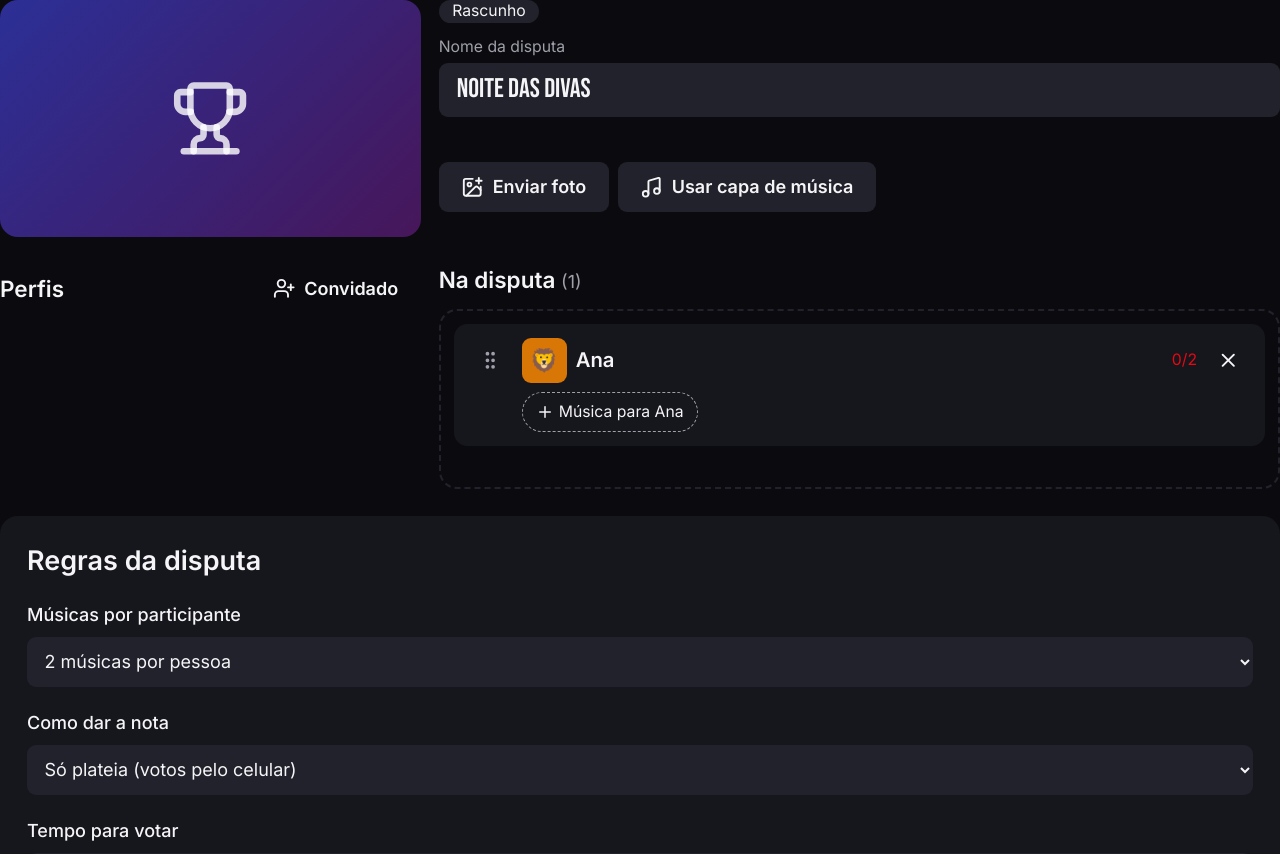
Test case: competitions › draft › chooses a song from the library for a participant
Click the button "Música para Ana" at [610, 412], box [522,392,698,432]
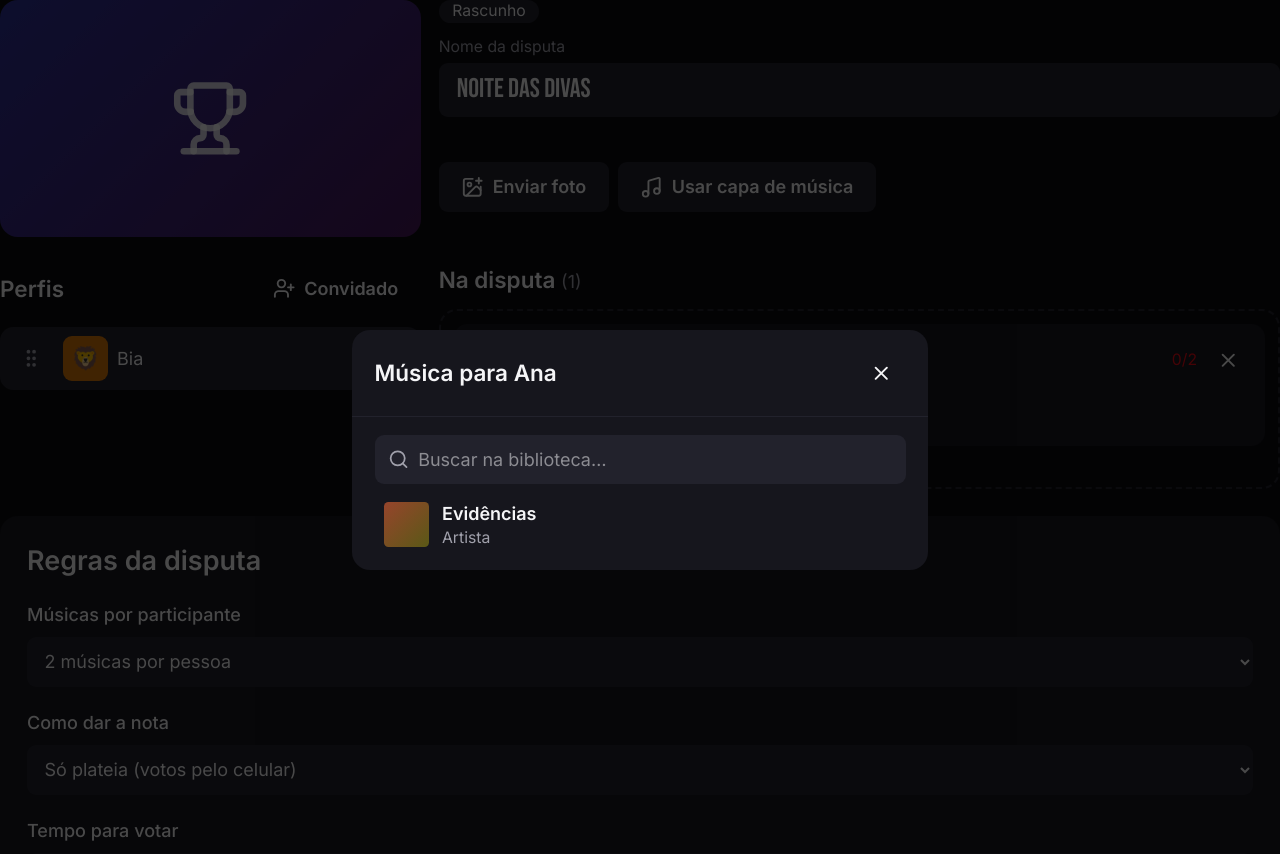
Click the button "Evidências Artista" at [406, 525], box [374,498,906,552]
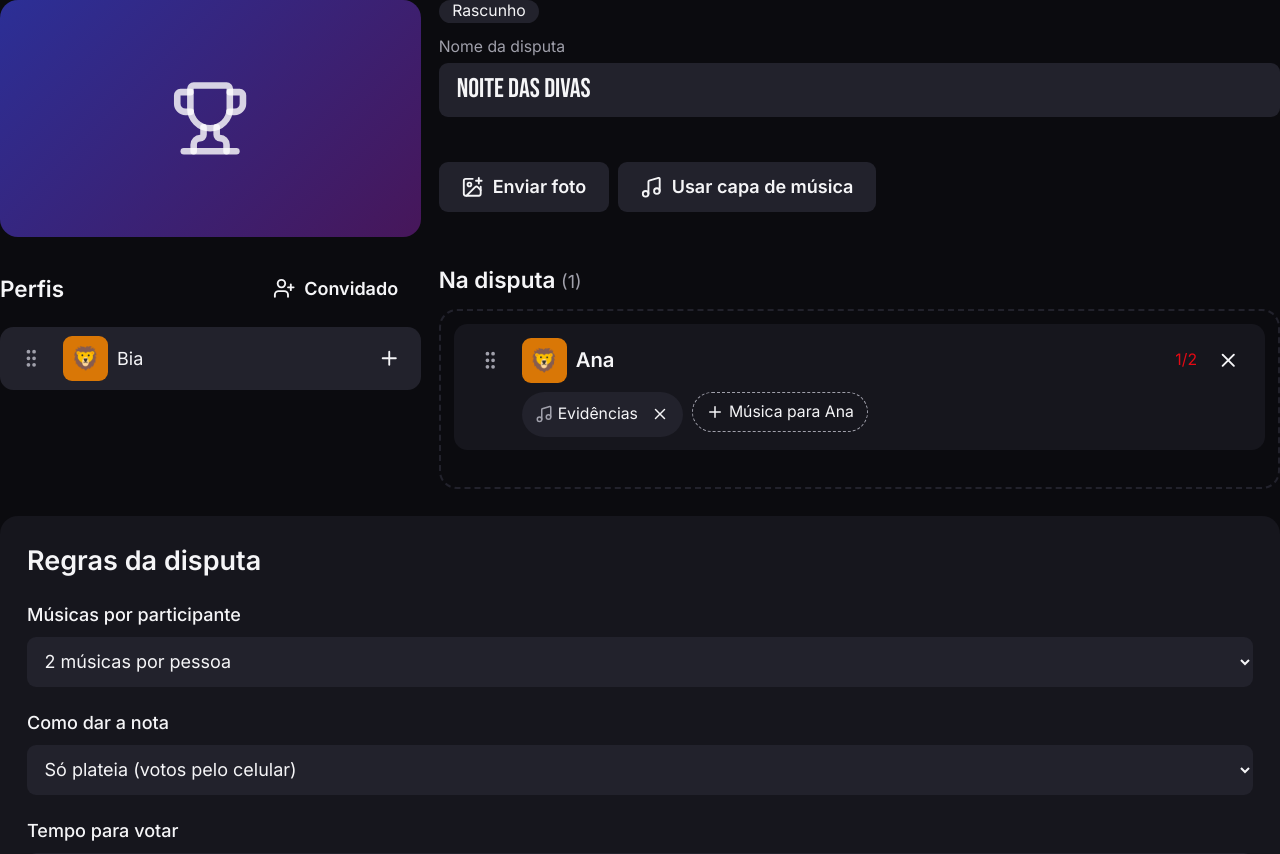
Expected: the button named "Tirar Evidências de Ana" is shown, [642,396,678,432]
